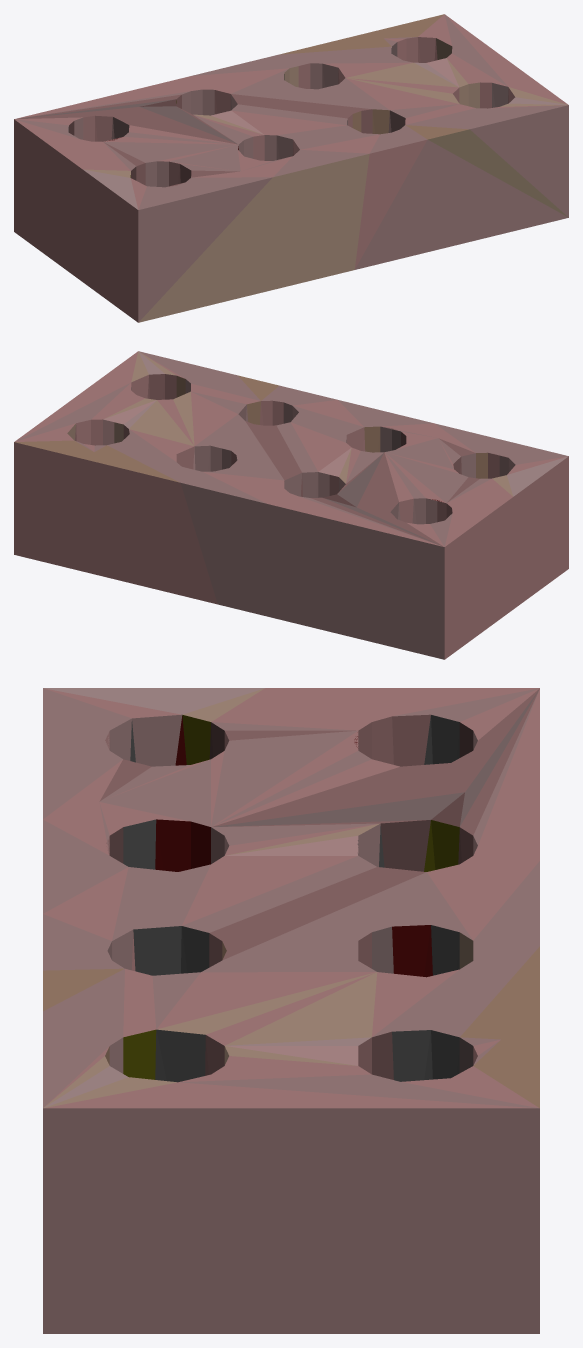
File: brick.dae
3 renders of one model, top to bottom at view 1: azimuth 30°, elevation 25°; view 2: azimuth 150°, elevation 25°; view 3: azimuth 270°, elevation 25°, orthographic. The views are drawn at different scales.
Visible parts, largest first — view 1: brick; view 2: brick; view 3: brick.
Boxes of the visible parts, x1=… form: brick: x1=14, y1=14, x2=568, y2=322; brick: x1=14, y1=351, x2=568, y2=659; brick: x1=43, y1=688, x2=539, y2=1333.
Bounding box in the file's own units: 0.2669 × 0.1334 × 0.0667.
